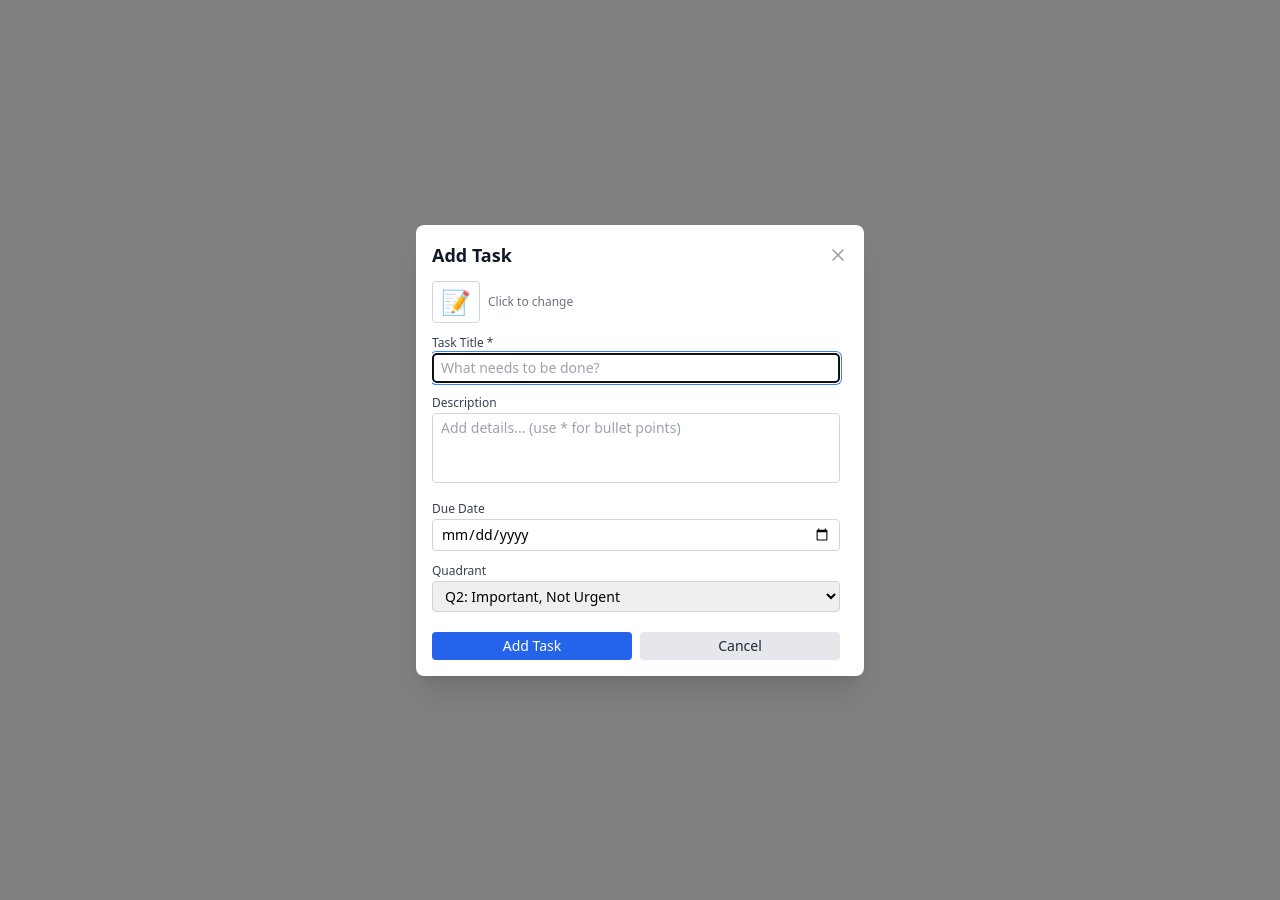
Scenario: TaskModal › shows delegate field for Q3 quadrant
The width and height of the screenshot is (1280, 900).
Change to Q3
Select "Q3: Urgent, Not Important" in the dropdown at (636, 596), box [432,580,840,612]
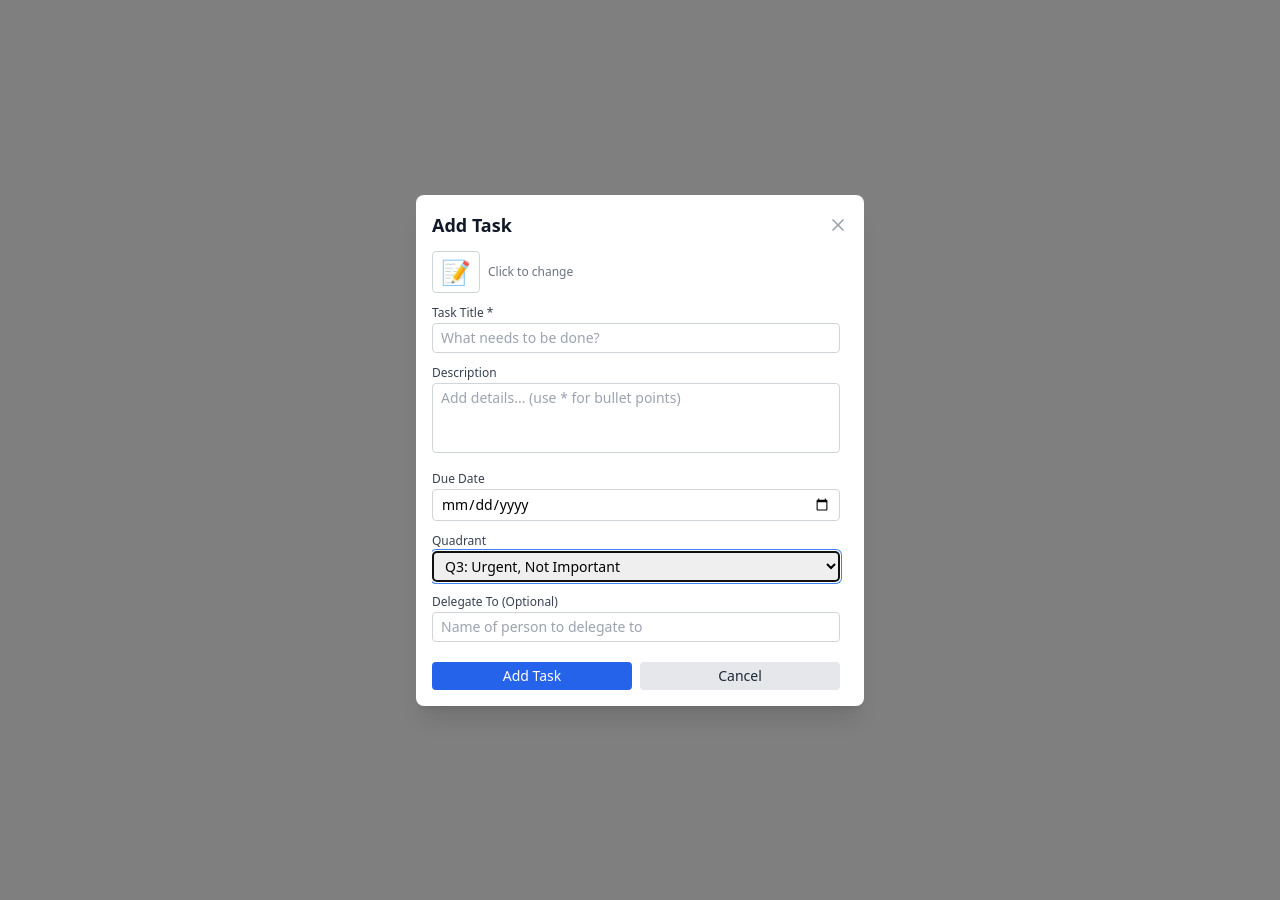
expect the field with placeholder "Name of person to delegate to" is shown: met, box [432,612,840,642]
